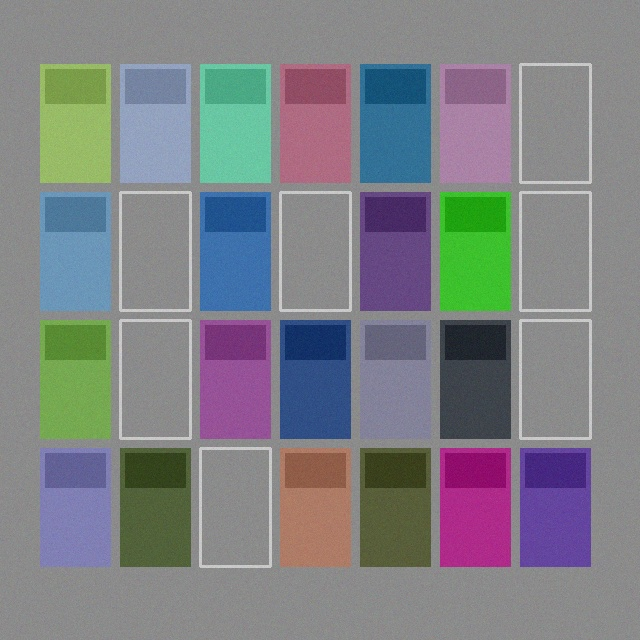space-empty: (520, 64, 590, 182), (120, 192, 190, 310), (280, 192, 350, 310), (520, 192, 590, 310), (120, 320, 190, 438), (520, 320, 590, 438), (200, 448, 270, 566)
space-occupied: (40, 64, 110, 182), (120, 64, 190, 182), (200, 64, 270, 182), (280, 64, 350, 182), (360, 64, 430, 182), (440, 64, 510, 182), (40, 192, 110, 310), (200, 192, 270, 310), (360, 192, 430, 310), (440, 192, 510, 310), (40, 320, 110, 438), (200, 320, 270, 438), (280, 320, 350, 438), (360, 320, 430, 438), (440, 320, 510, 438), (40, 448, 110, 566), (120, 448, 190, 566), (280, 448, 350, 566), (360, 448, 430, 566), (440, 448, 510, 566), (520, 448, 590, 566)
